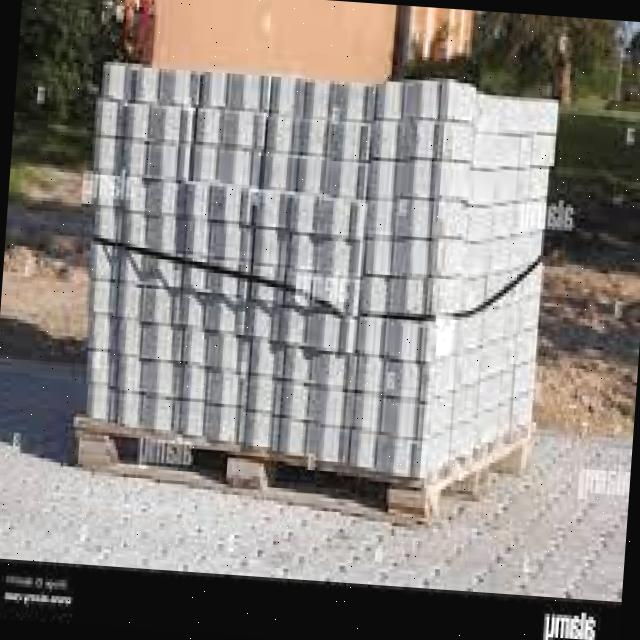bricks: (88, 64, 558, 492)
